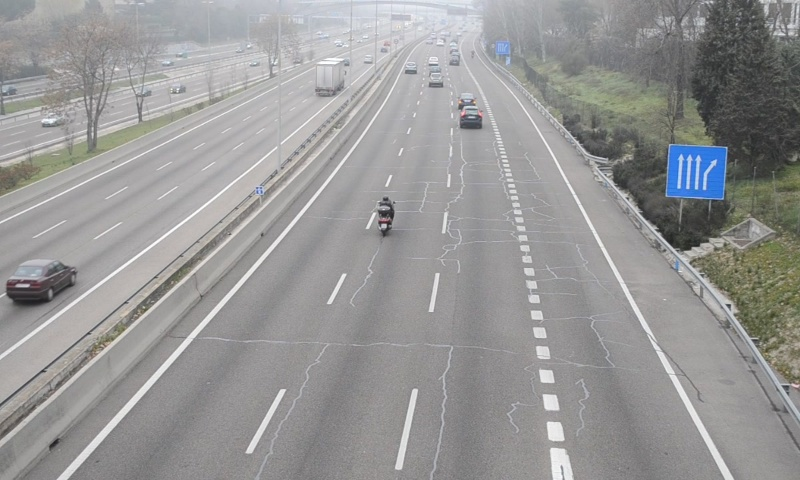car: (459, 106, 482, 129), (458, 92, 476, 108)
motorcycle: (375, 194, 395, 237)
